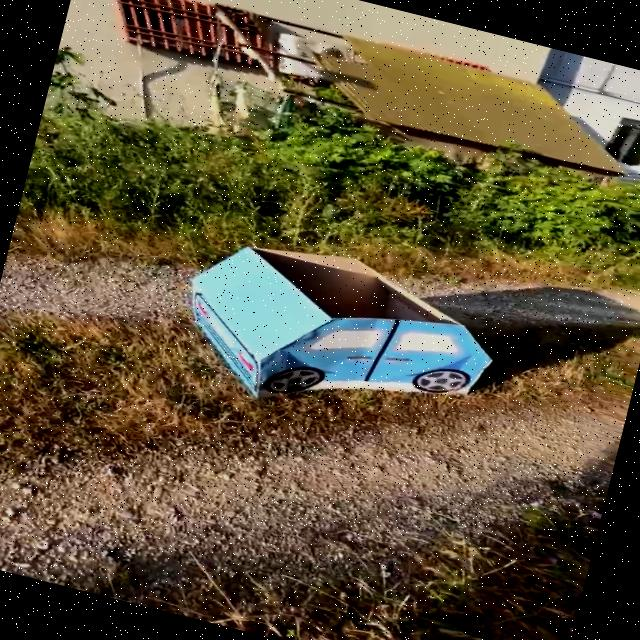blue_car: (88, 183, 543, 477)
